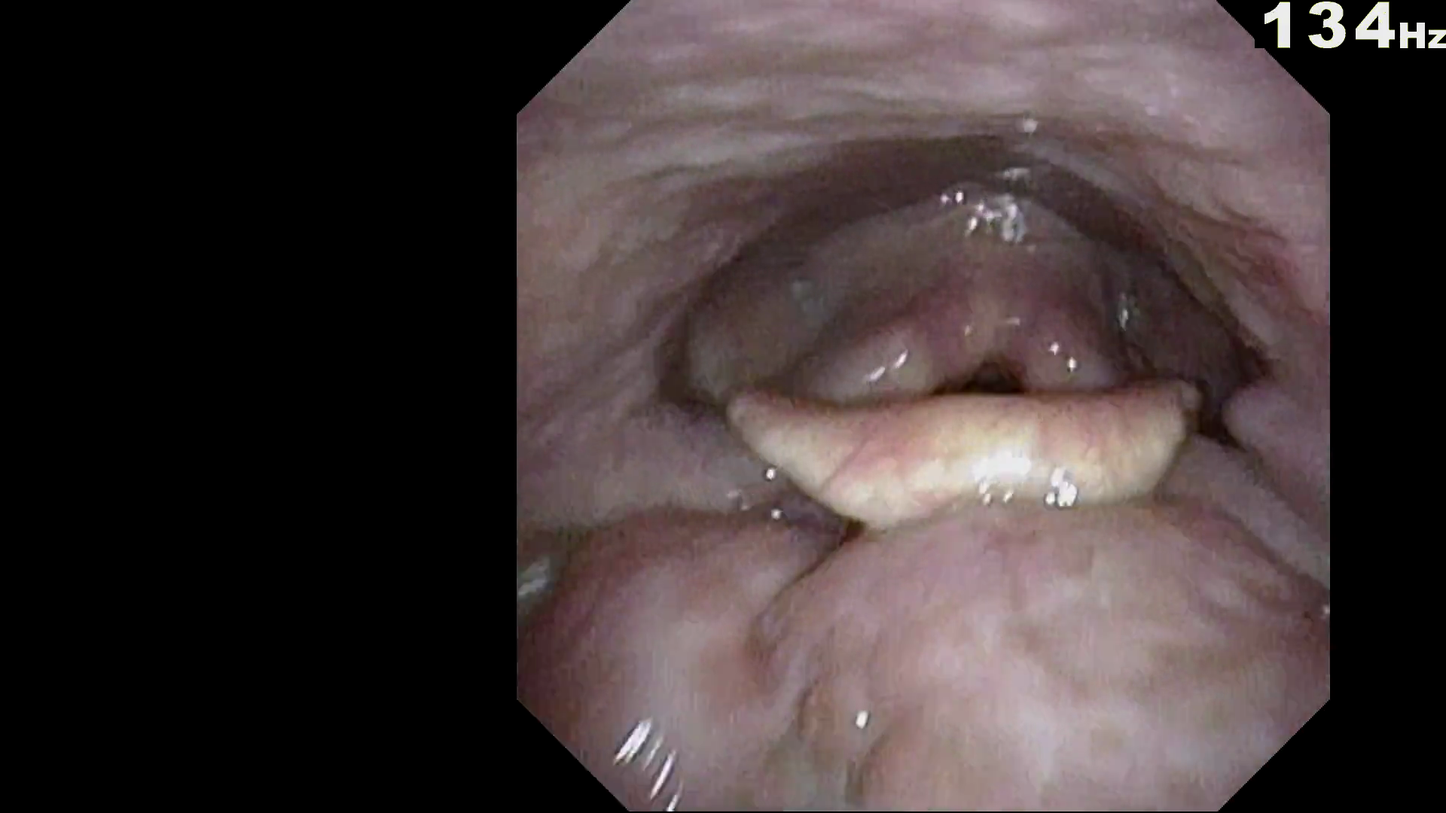epiglottis: (719, 342, 1186, 461)
